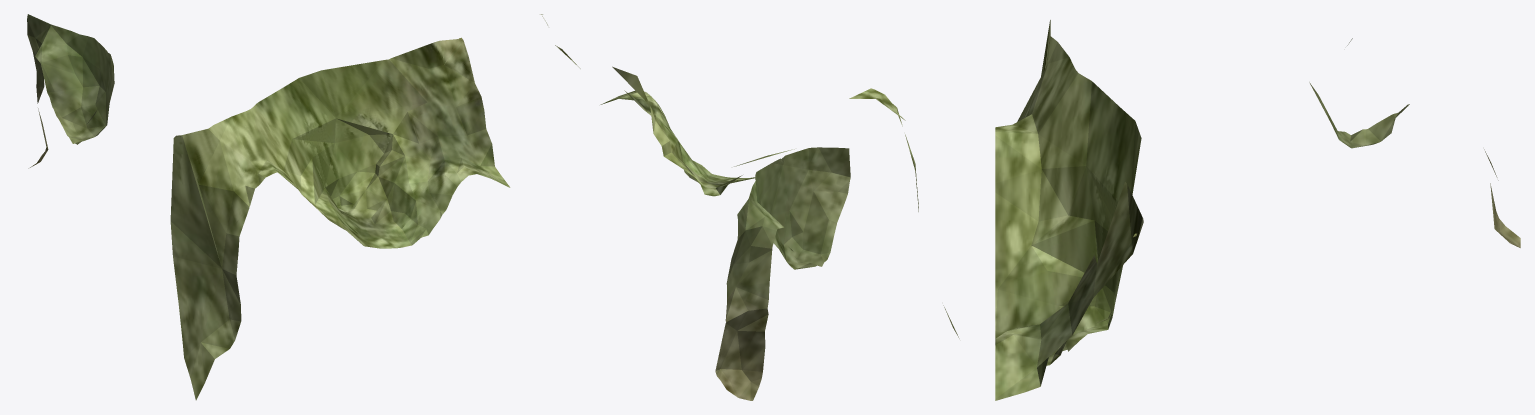
3 renders of one model, left to right at view 1: azimuth 30°, elevation 25°; view 2: azimuth 150°, elevation 25°; view 3: azimuth 270°, elevation 25°, orthographic. The views are drawn at different scales.
Size of the model in its own units: 2.95 by 2.25 by 2.95.
2 materials, 2 textured.
